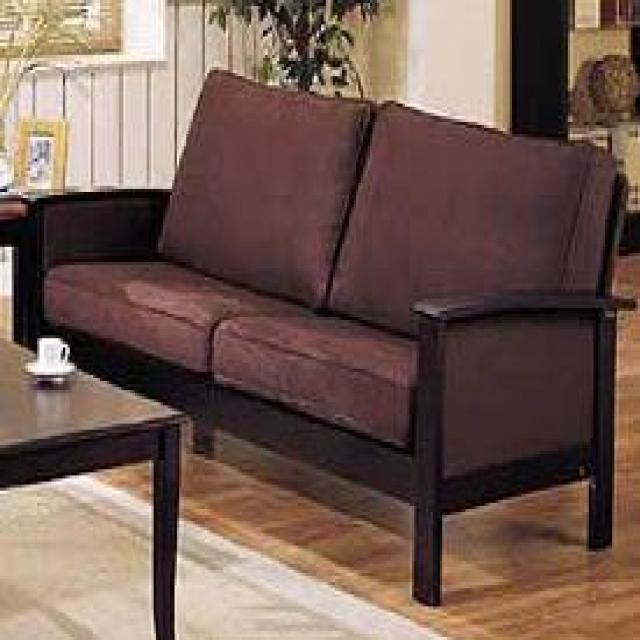sofa: (22, 66, 639, 609)
